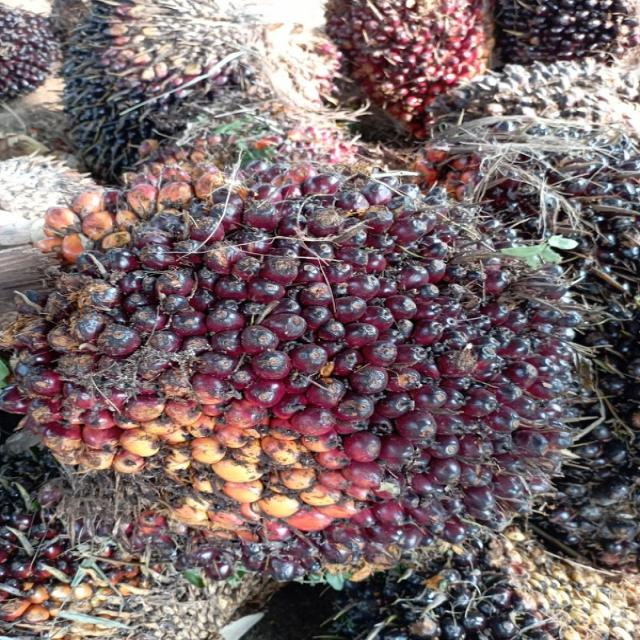fraksi 1: (2, 100, 612, 600)
